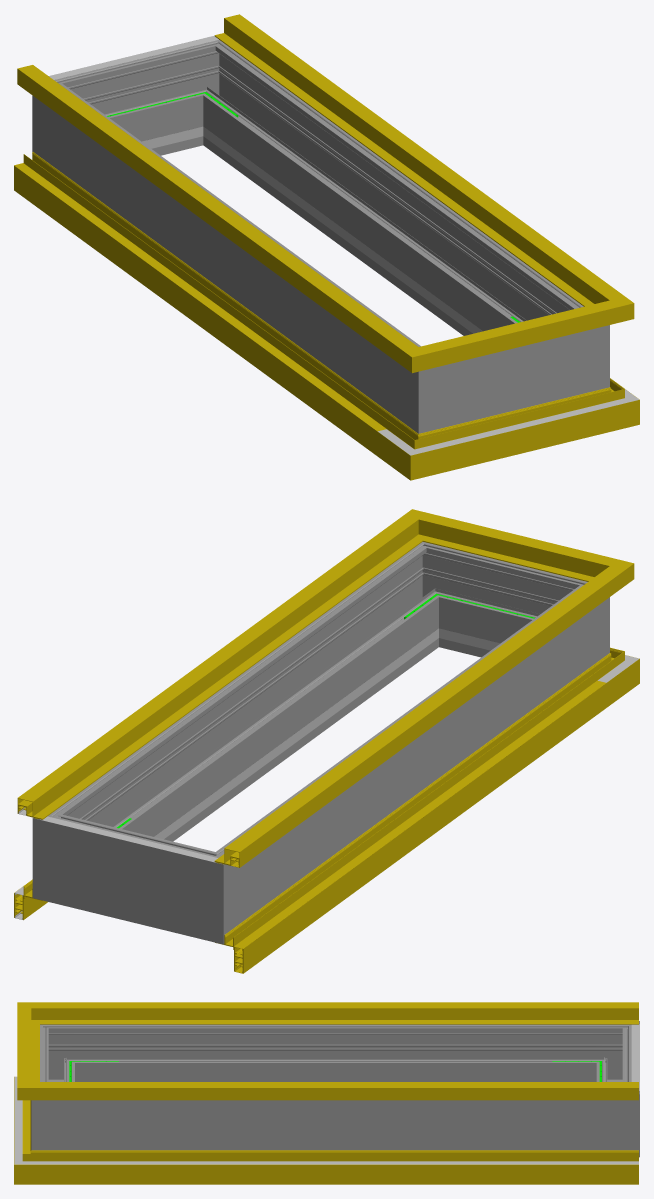
3 renders of one model, top to bottom at view 1: azimuth 30°, elevation 25°; view 2: azimuth 150°, elevation 25°; view 3: azimuth 270°, elevation 25°, orthographic. The views are drawn at different scales.
Parts seen in each view (by area): view 1: 3DGeom-297, 3DGeom-268, 3DGeom-85, 3DGeom-128, 3DGeom-118, 3DGeom-276, 3DGeom-270, 3DGeom-298, 3DGeom-90, 3DGeom-284, 3DGeom-290, 3DGeom-86 (+10 smaller); view 2: 3DGeom-297, 3DGeom-268, 3DGeom-85, 3DGeom-128, 3DGeom-118, 3DGeom-278, 3DGeom-276, 3DGeom-298, 3DGeom-284, 3DGeom-290, 3DGeom-105, 3DGeom-123 (+8 smaller); view 3: 3DGeom-268, 3DGeom-297, 3DGeom-97, 3DGeom-118, 3DGeom-128, 3DGeom-284, 3DGeom-290, 3DGeom-98, 3DGeom-270, 3DGeom-278, 3DGeom-92, 3DGeom-120 (+8 smaller).
Boxes of the visible parts, x1,y1,x2,y2 form: 3DGeom-297: [209, 60, 567, 335]; 3DGeom-268: [65, 99, 403, 409]; 3DGeom-85: [14, 152, 396, 456]; 3DGeom-128: [214, 14, 600, 300]; 3DGeom-118: [17, 65, 394, 348]; 3DGeom-276: [95, 51, 193, 155]; 3DGeom-270: [385, 334, 475, 433]; 3DGeom-298: [476, 339, 552, 419]; 3DGeom-90: [457, 396, 582, 466]; 3DGeom-284: [171, 40, 246, 148]; 3DGeom-290: [552, 294, 609, 401]; 3DGeom-86: [377, 418, 467, 480]; 3DGeom-297: [75, 562, 433, 841]; 3DGeom-268: [238, 601, 576, 910]; 3DGeom-85: [215, 669, 606, 973]; 3DGeom-128: [17, 533, 403, 819]; 3DGeom-118: [214, 584, 601, 867]; 3DGeom-278: [166, 836, 256, 944]; 3DGeom-276: [90, 824, 176, 930]; 3DGeom-298: [448, 553, 546, 657]; 3DGeom-284: [32, 796, 100, 911]; 3DGeom-290: [395, 542, 470, 650]; 3DGeom-105: [234, 680, 605, 950]; 3DGeom-123: [455, 523, 576, 575]; 3DGeom-268: [83, 1024, 587, 1081]; 3DGeom-297: [83, 1100, 587, 1150]; 3DGeom-97: [66, 1150, 638, 1184]; 3DGeom-118: [69, 1002, 638, 1024]; 3DGeom-128: [69, 1082, 638, 1100]; 3DGeom-284: [587, 1072, 639, 1157]; 3DGeom-290: [31, 1072, 83, 1150]; 3DGeom-98: [66, 1161, 638, 1164]; 3DGeom-270: [40, 1024, 83, 1081]; 3DGeom-278: [587, 1021, 639, 1081]; 3DGeom-92: [14, 1136, 66, 1184]; 3DGeom-120: [17, 1002, 69, 1036].
Size of the model in its own units: 0.6096 by 0.3069 by 1.83.
